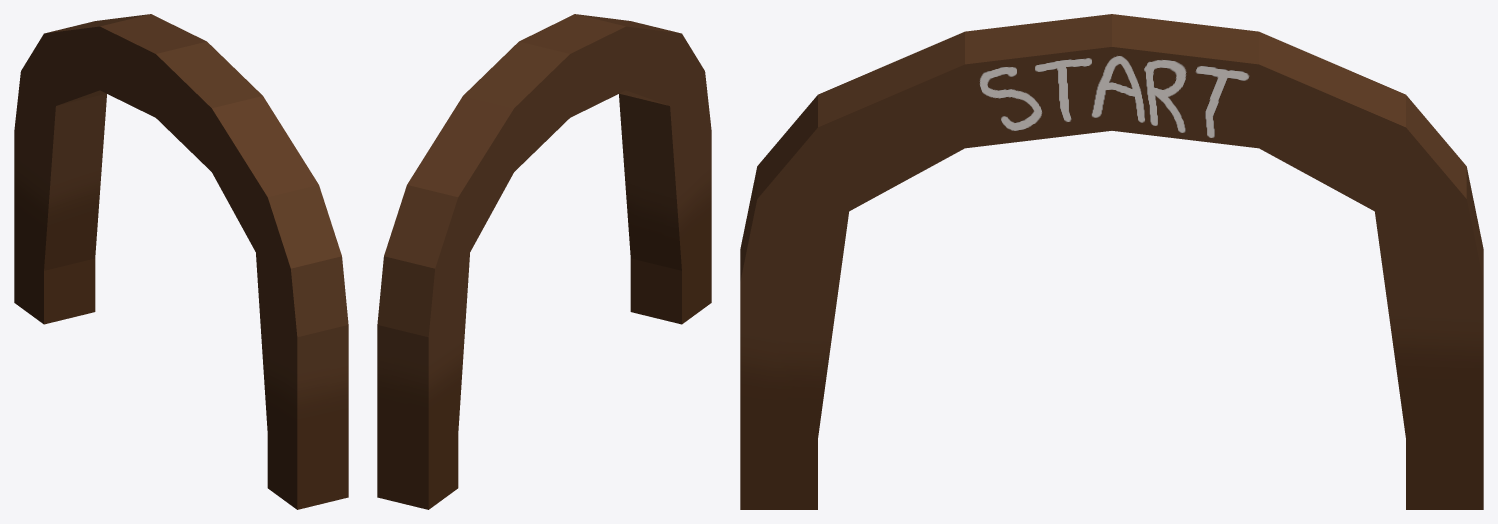
Rendered from StartBow.fbx.
The picture shows the model from 3 angles, left to right: view 1: azimuth 30°, elevation 25°; view 2: azimuth 150°, elevation 25°; view 3: azimuth 270°, elevation 25°; orthographic projection. The views are drawn at different scales.
Visible parts, largest first — view 1: Cube.008; view 2: Cube.008; view 3: Cube.008.
Part boxes in pixels (x1,y1,x2,y2): Cube.008: (14,14,348,509); Cube.008: (377,14,711,509); Cube.008: (740,14,1483,509).
Size of the model in its own units: 78.92 by 519 by 755.
Materials: 1 (1 with a texture image).
